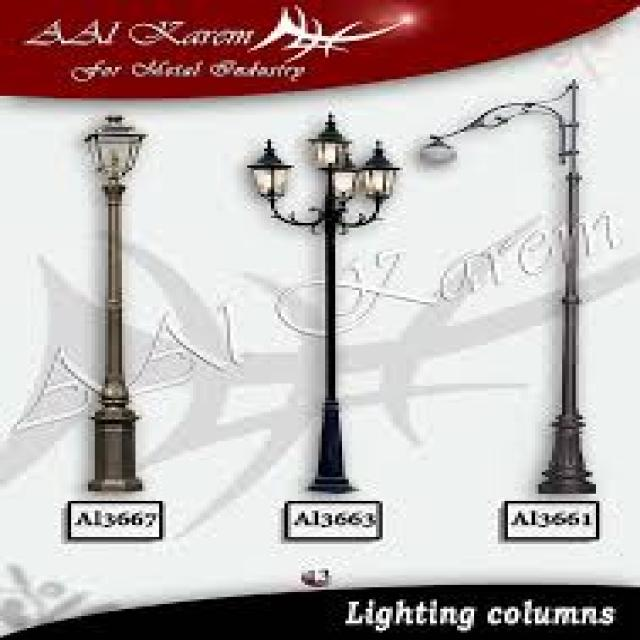Street Light: (416, 77, 596, 496), (81, 113, 146, 489)
